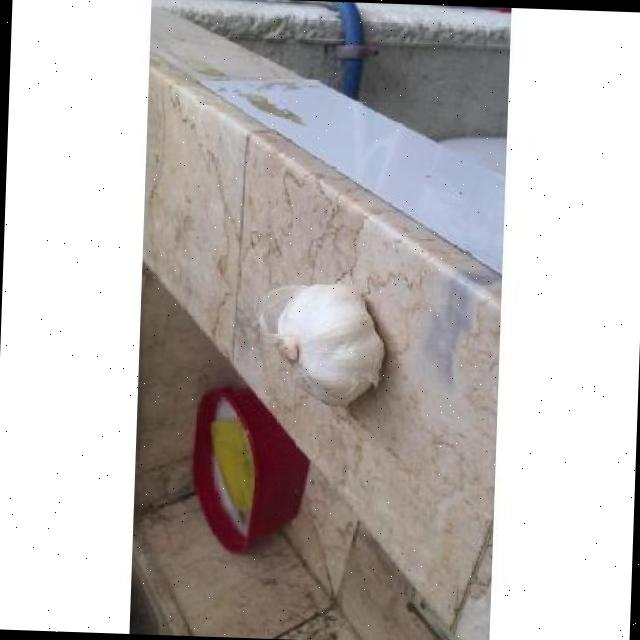garlic: (259, 282, 383, 404)
